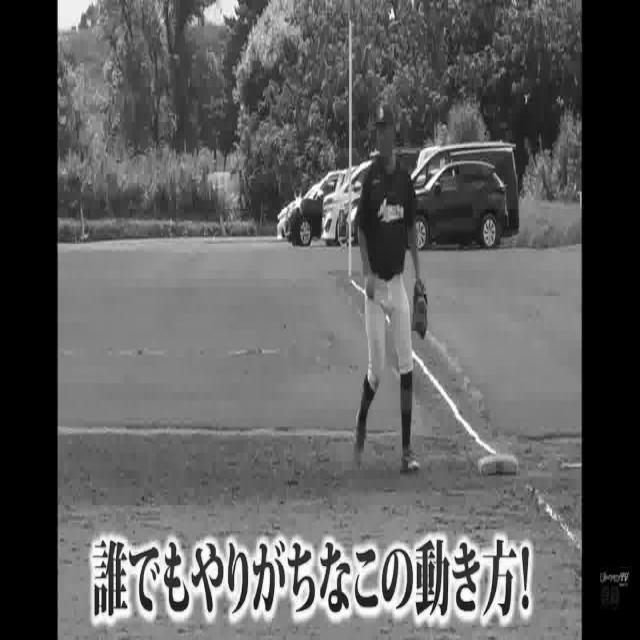base: (474, 449, 522, 473)
baseball_glove: (410, 278, 432, 340)
shoe: (354, 402, 372, 468), (400, 448, 421, 478)
